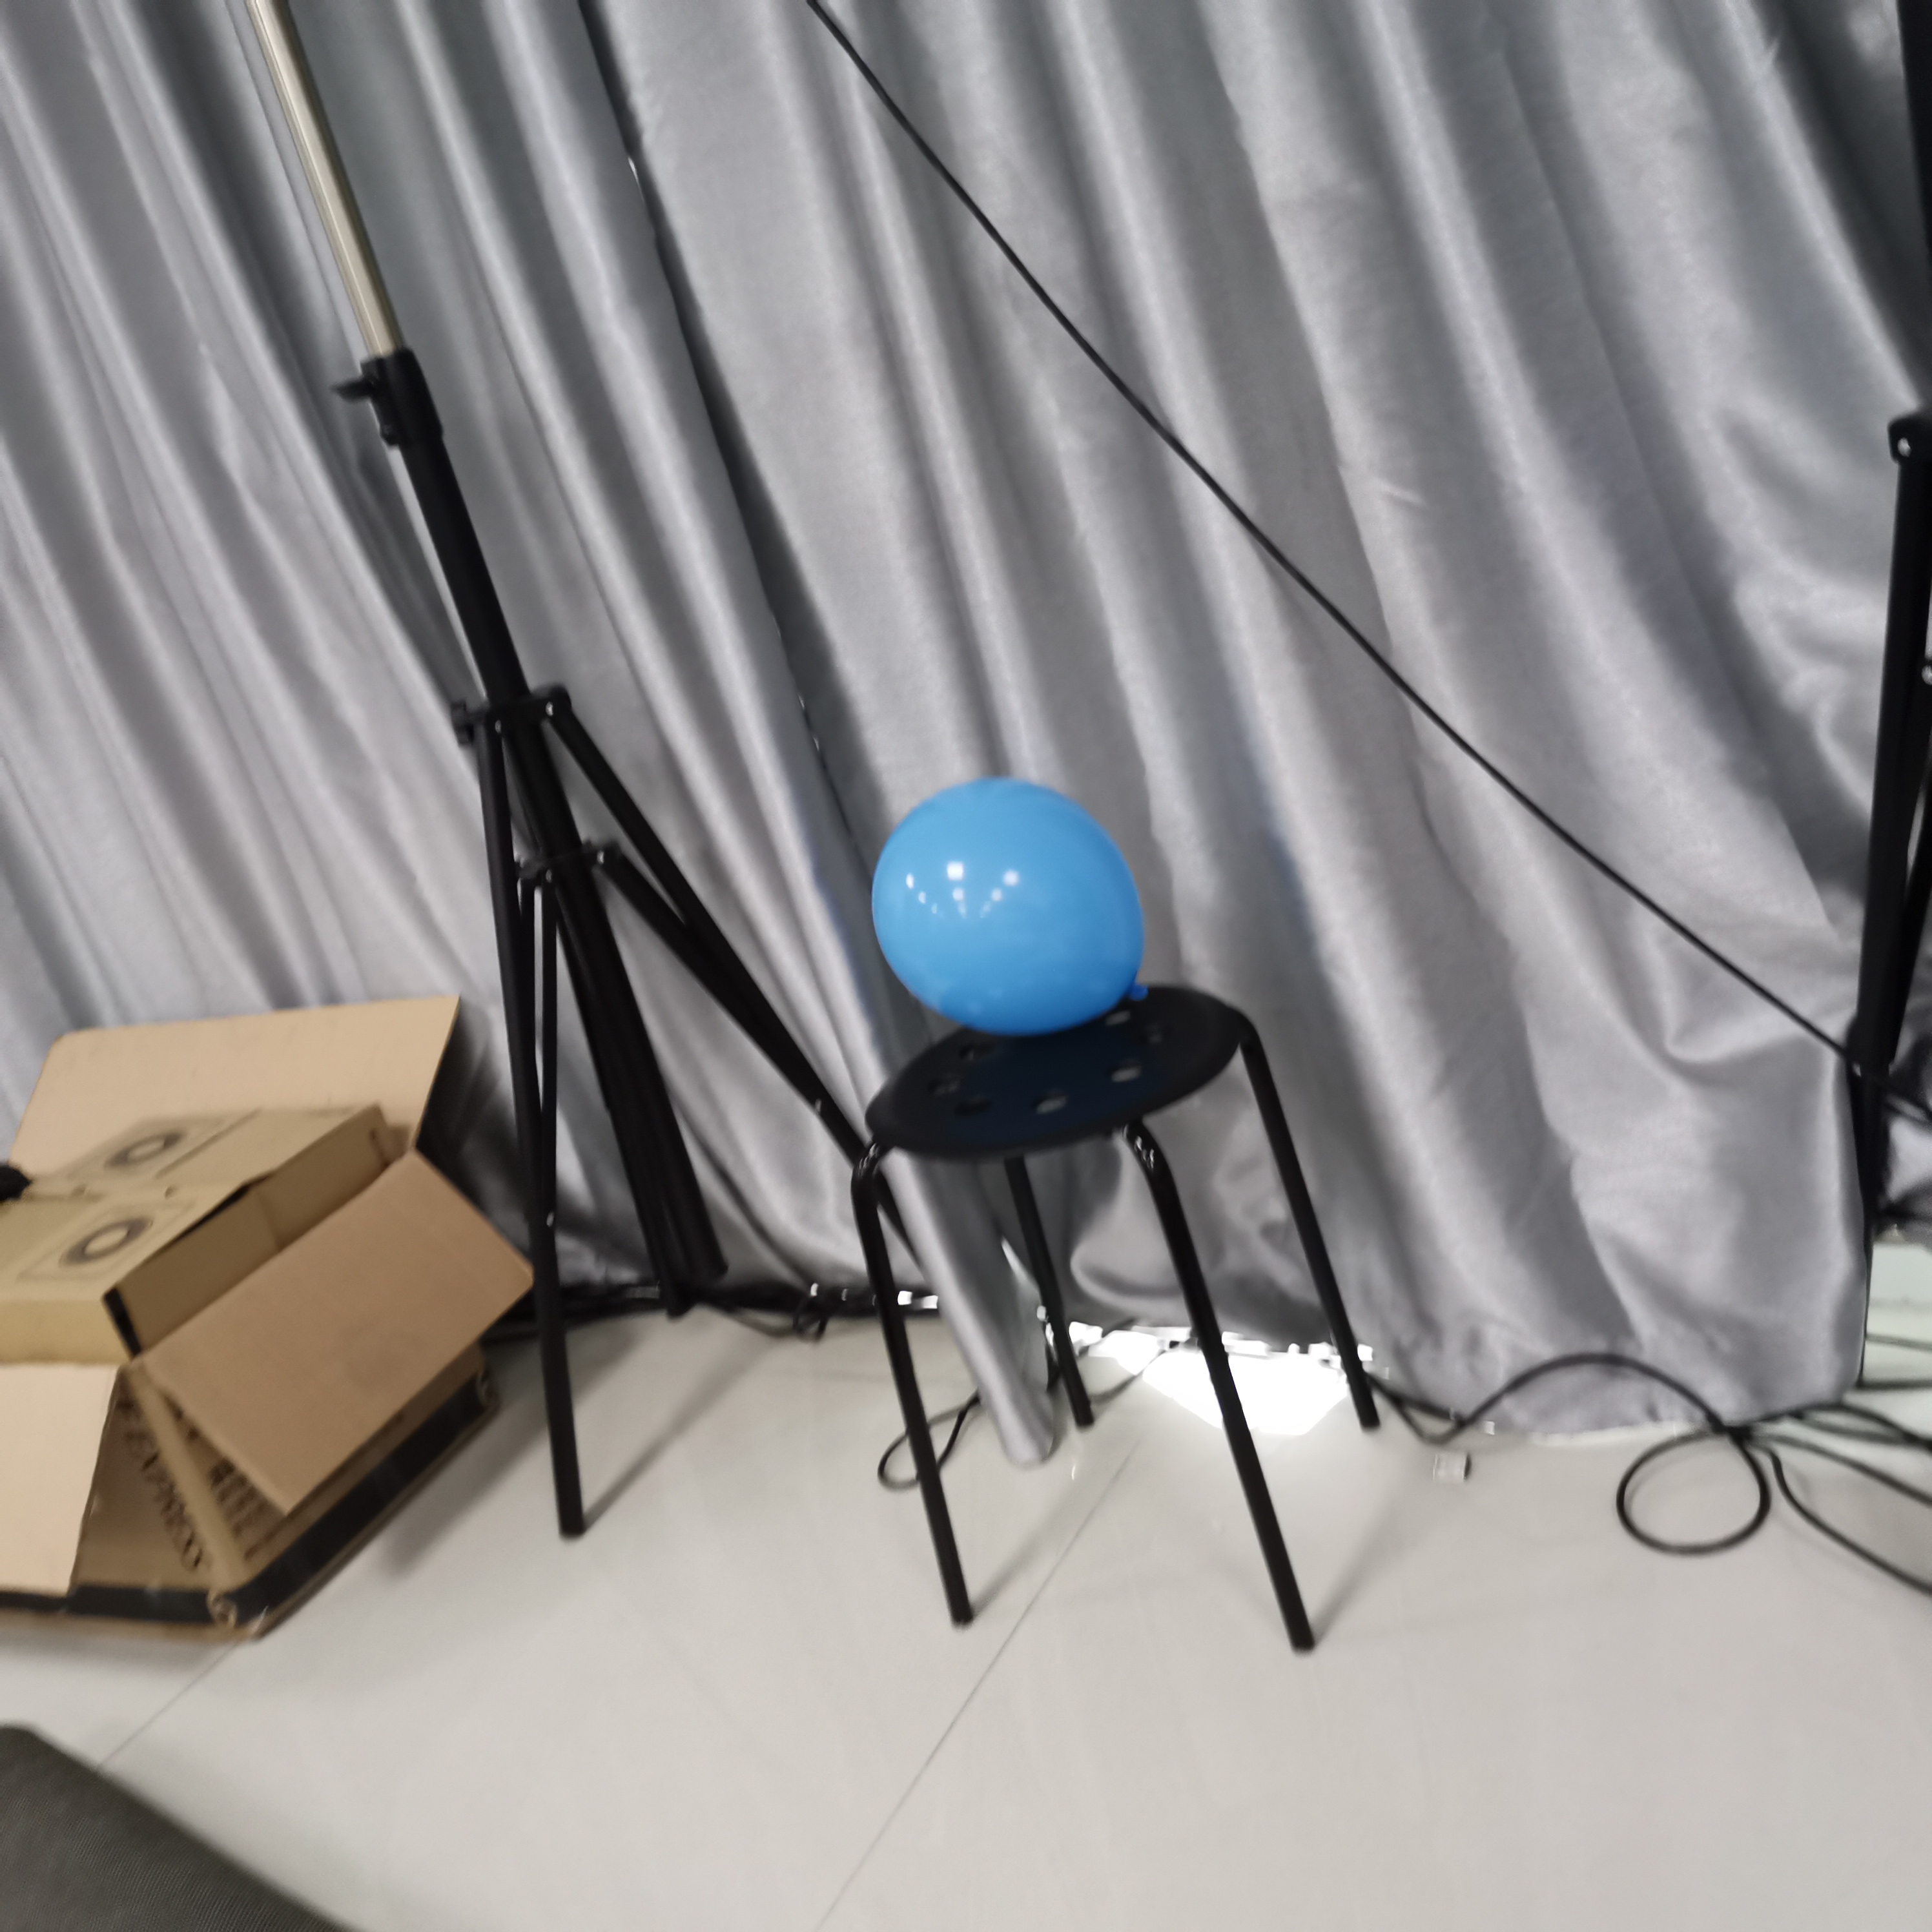balloon: (870, 777, 1150, 1026)
